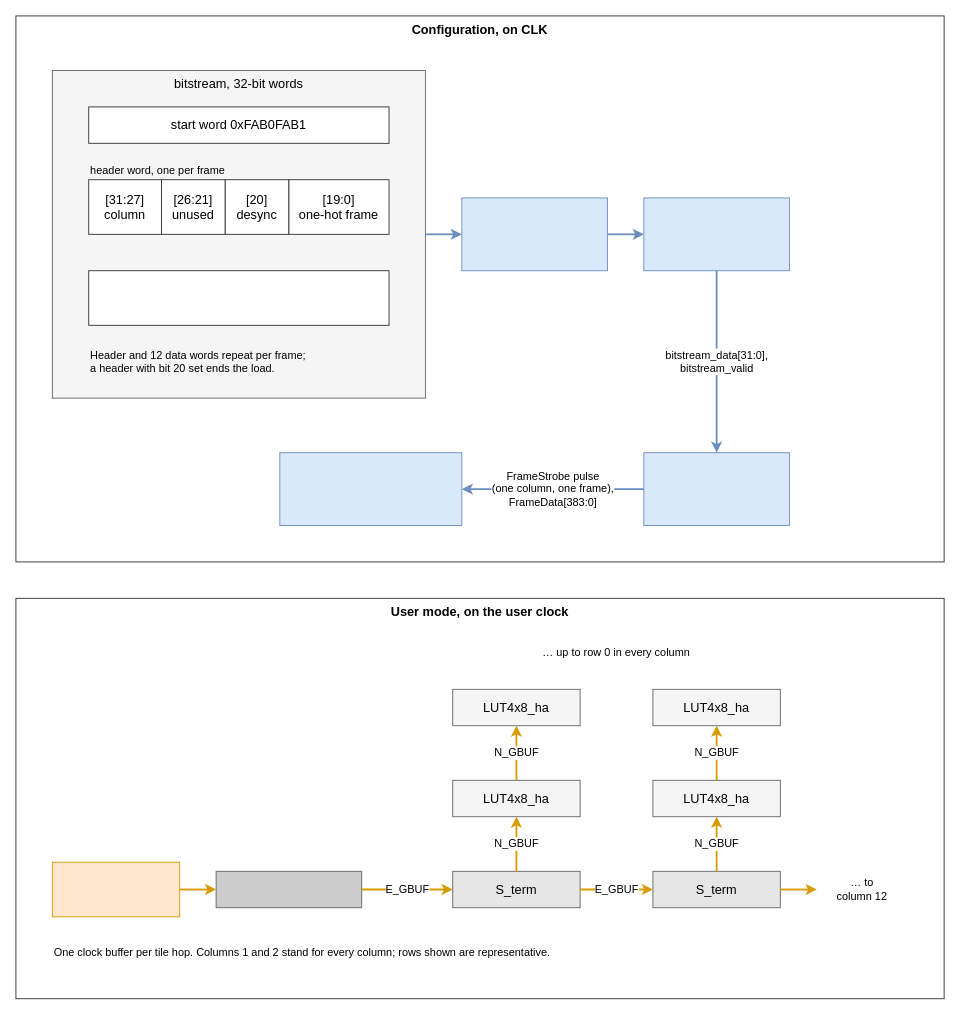
This 960x1015 diagram has some shape labels left out. The shapes that lost their labels are listed below. From the top down, each one's centre as x and y in pixels, then its label:
At point 534,234: "loader: UART, bitbang or SPI".
At point 716,234: "config_frontend".
At point 238,297: "12 data words, row 11 first, row 0 last".
At point 370,489: "tile configuration latches".
At point 716,489: "fabric_config".
At point 115,889: "SYS_RESET pad, user clock".
At point 288,889: "SW_term, 4 × GBUF".
